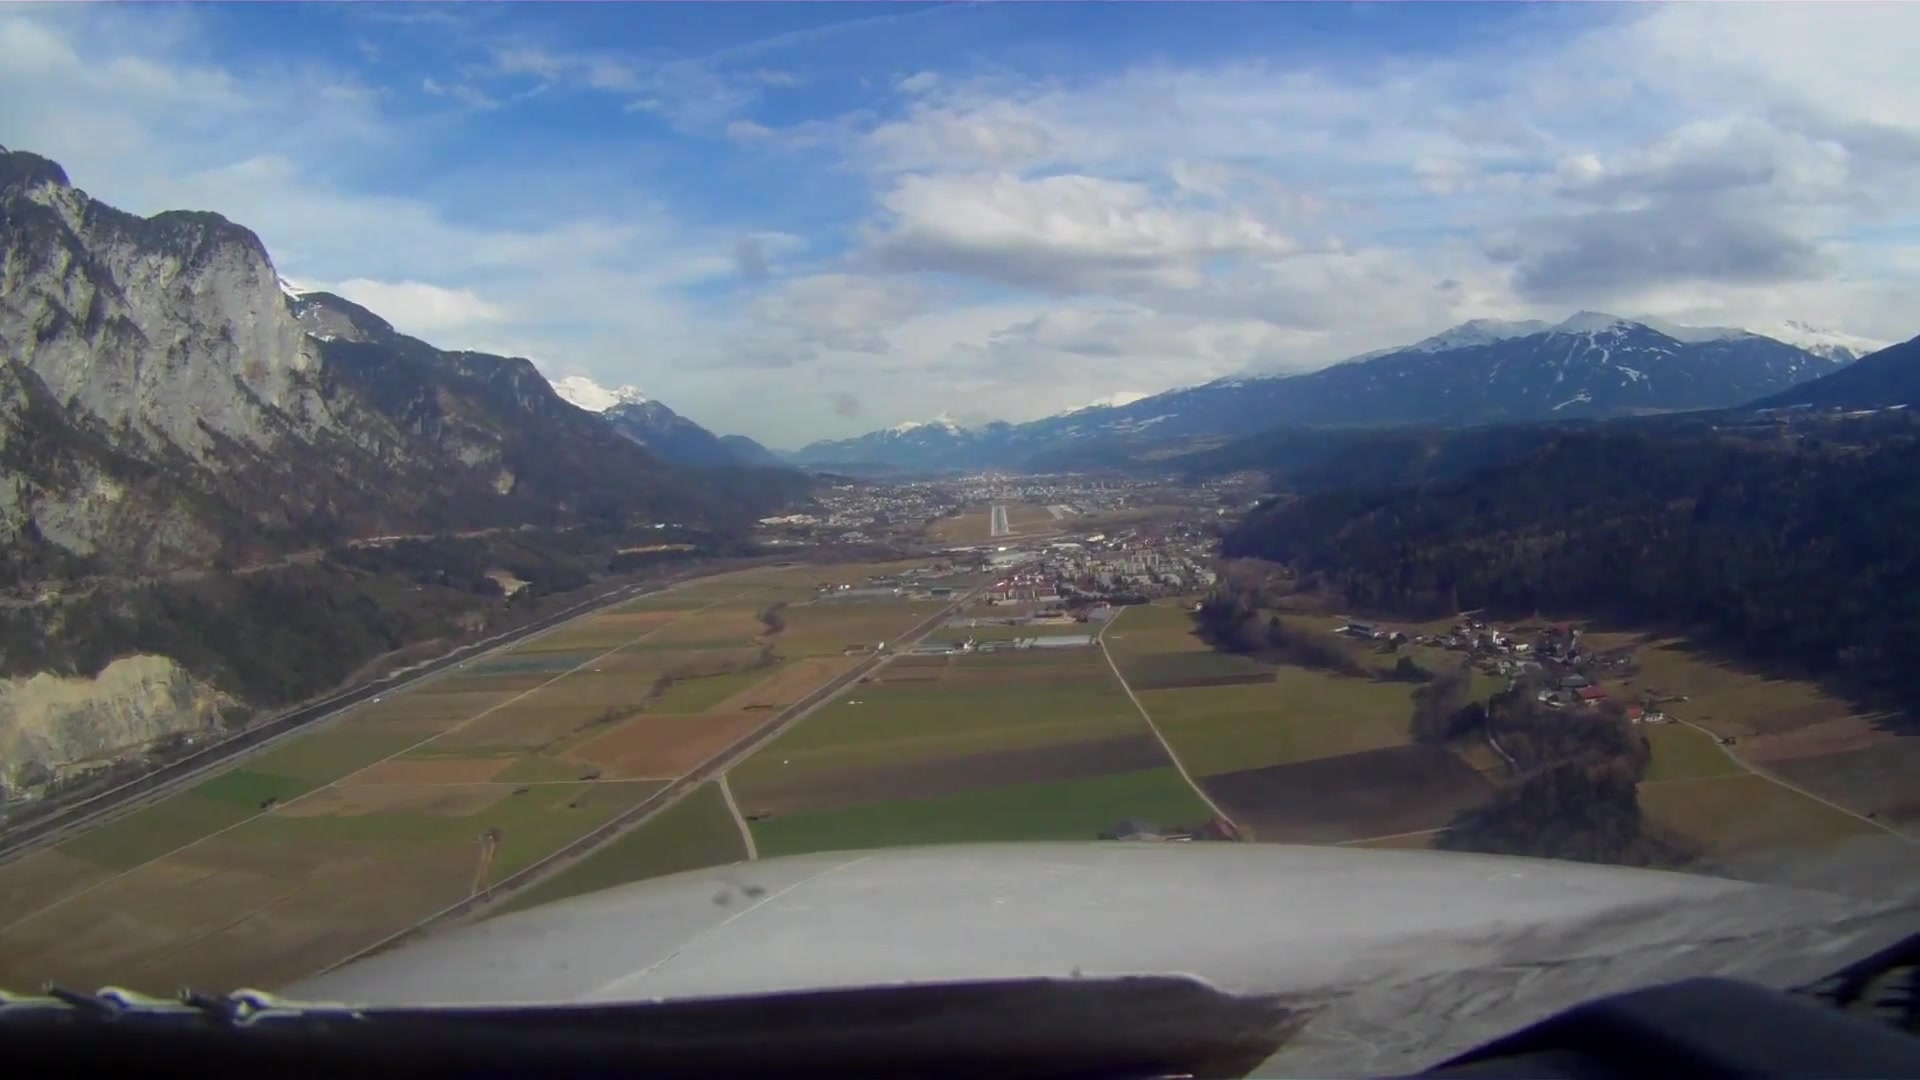runway: (989, 502, 1009, 538)
